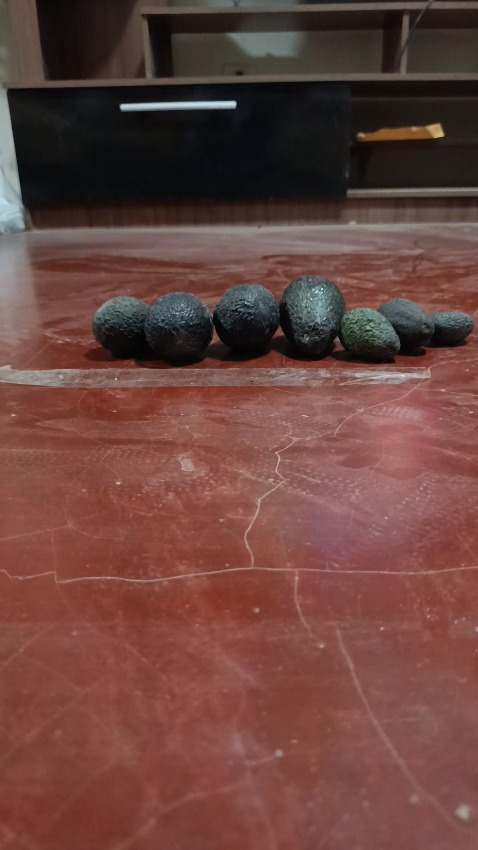Primera: (278, 275, 345, 357), (143, 291, 213, 364), (213, 283, 280, 352), (92, 295, 151, 357)
Segunda: (339, 306, 399, 361), (376, 297, 433, 353)
Tercera: (428, 311, 473, 346)
